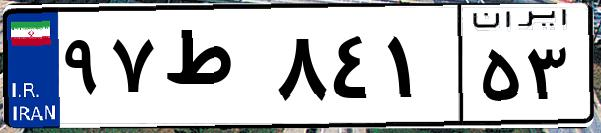1: (385, 28, 445, 110)
3: (525, 38, 570, 115)
4: (330, 28, 385, 110)
5: (475, 38, 525, 113)
7: (110, 28, 158, 98)
8: (270, 28, 330, 110)
9: (57, 26, 110, 100)
ط: (158, 20, 270, 120)
